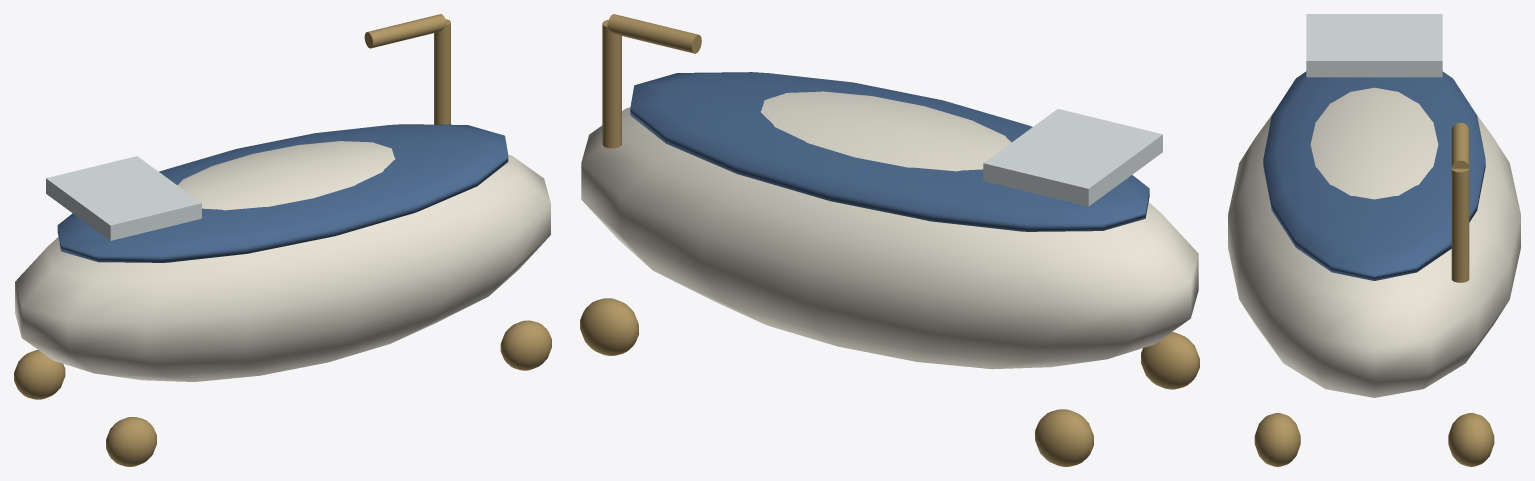
Rendered from v18_interior_clawfoot_bath.glb.
The picture shows the model from 3 angles, left to right: view 1: azimuth 30°, elevation 25°; view 2: azimuth 150°, elevation 25°; view 3: azimuth 270°, elevation 25°; orthographic projection. The views are drawn at different scales.
Parts seen in each view (by area): view 1: _MeshInstance3D_4818, _MeshInstance3D_4819, _MeshInstance3D_4823, _MeshInstance3D_4817, _MeshInstance3D_4815, _MeshInstance3D_4814, _MeshInstance3D_4821, _MeshInstance3D_4822; view 2: _MeshInstance3D_4818, _MeshInstance3D_4819, _MeshInstance3D_4823, _MeshInstance3D_4814, _MeshInstance3D_4816, _MeshInstance3D_4815, _MeshInstance3D_4821, _MeshInstance3D_4822; view 3: _MeshInstance3D_4818, _MeshInstance3D_4819, _MeshInstance3D_4823, _MeshInstance3D_4821, _MeshInstance3D_4816, _MeshInstance3D_4817, _MeshInstance3D_4822.
Boxes of the visible parts, x1,y1,x2,y2 form: _MeshInstance3D_4818: (15,141,550,381); _MeshInstance3D_4819: (57,124,508,262); _MeshInstance3D_4823: (46,156,201,240); _MeshInstance3D_4817: (500,320,551,370); _MeshInstance3D_4815: (106,417,156,466); _MeshInstance3D_4814: (14,350,65,399); _MeshInstance3D_4821: (434,19,450,124); _MeshInstance3D_4822: (364,14,446,48); _MeshInstance3D_4818: (581,91,1198,369); _MeshInstance3D_4819: (630,72,1149,231); _MeshInstance3D_4823: (983,109,1162,206); _MeshInstance3D_4814: (1035,409,1093,466); _MeshInstance3D_4816: (580,298,638,355); _MeshInstance3D_4815: (1141,332,1199,389); _MeshInstance3D_4821: (602,20,621,148); _MeshInstance3D_4822: (607,14,701,53); _MeshInstance3D_4818: (1228,87,1520,397); _MeshInstance3D_4819: (1263,71,1485,280); _MeshInstance3D_4823: (1306,14,1442,77); _MeshInstance3D_4821: (1451,168,1469,282); _MeshInstance3D_4816: (1448,413,1494,466); _MeshInstance3D_4817: (1254,413,1300,466); _MeshInstance3D_4822: (1451,122,1469,168).
Size of the model in its own units: 1.89 by 1 by 0.8696.
